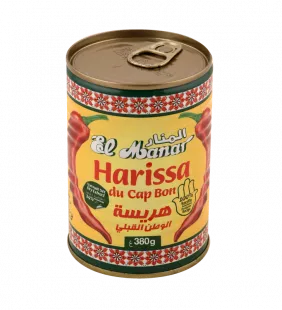EL MANAR: (60, 20, 220, 284)
